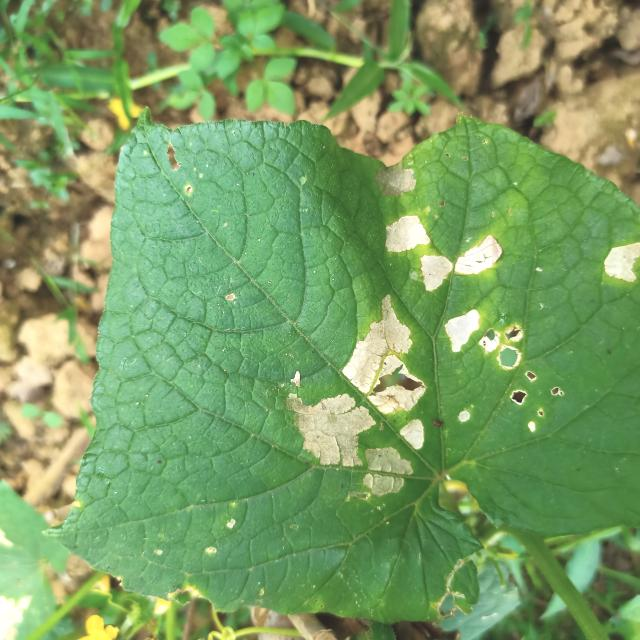disease_cucumber: (287, 277, 430, 509), (444, 306, 562, 434), (370, 202, 515, 295), (597, 235, 640, 290)
